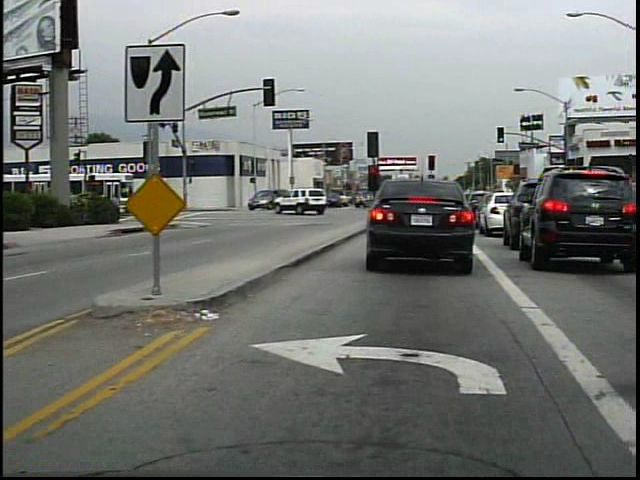person: (109, 188, 129, 224)
